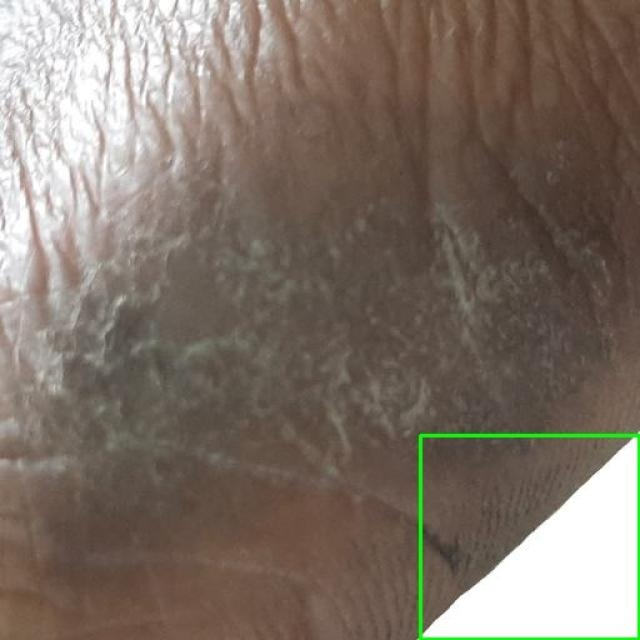Eczema: (420, 435, 639, 639)
